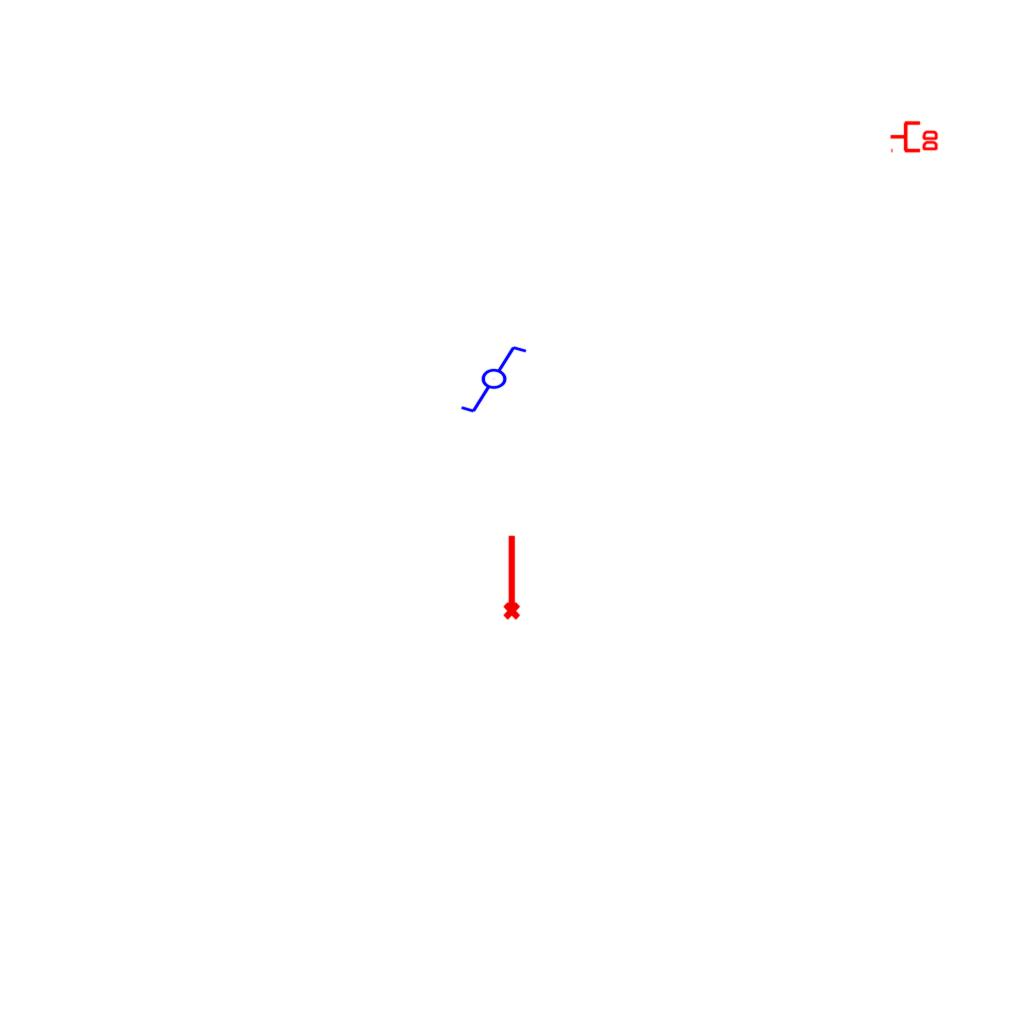ASR_Ansaugoeffnung: (499, 533, 522, 621)
Datenanschluss_zweifach: (889, 119, 940, 153)
Wechselschalter: (459, 344, 537, 416)
